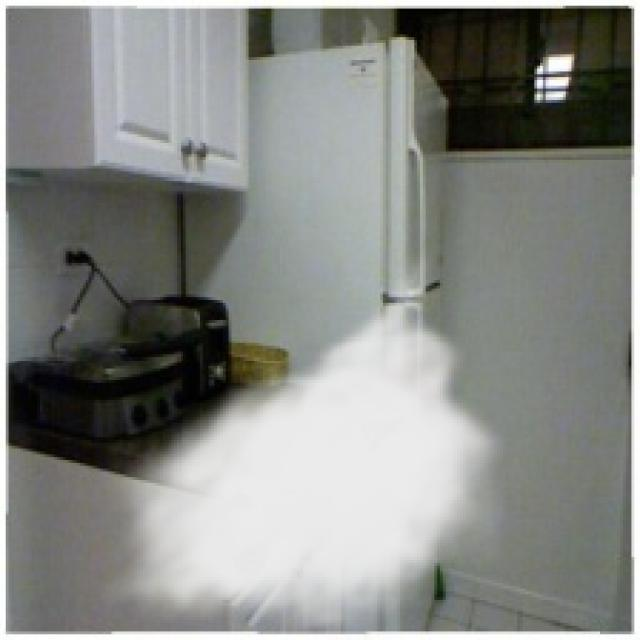Smoke: (100, 248, 514, 638)
